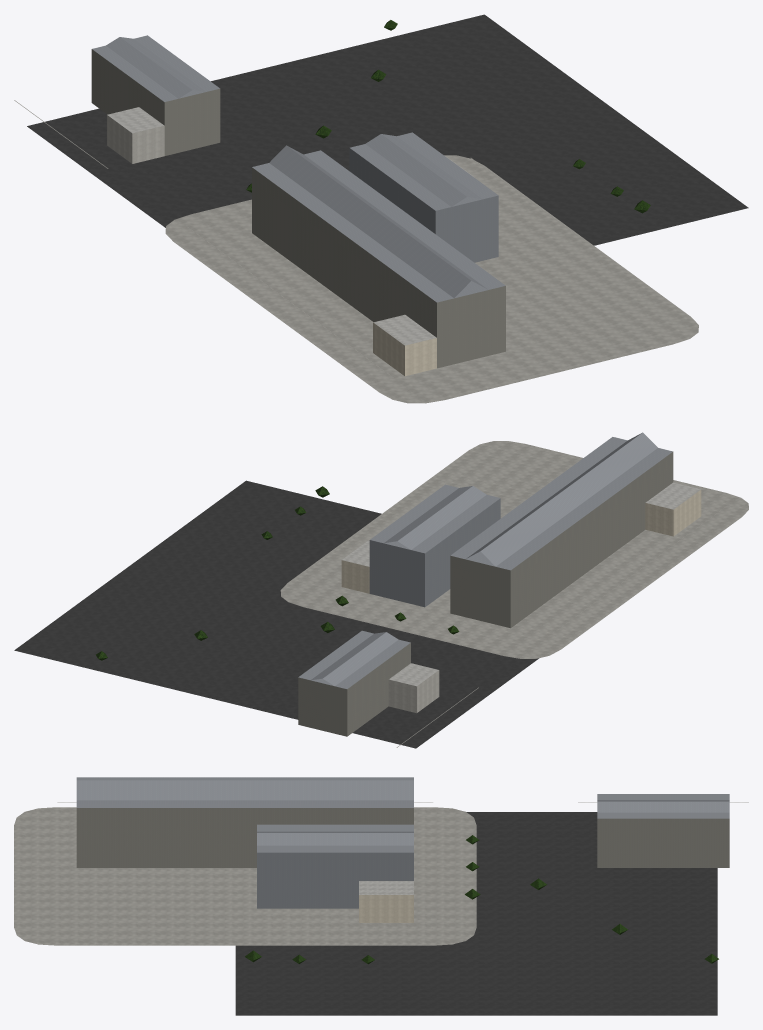
The model's file is cidade_S07_01_lod.gltf.
3 views of the same model, one above another, from view 1: azimuth 30°, elevation 25°; view 2: azimuth 150°, elevation 25°; view 3: azimuth 270°, elevation 25° (orthographic). The views are drawn at different scales.
Parts seen in each view (by area): view 1: S07_01_Chao_LOD2, S07_01_Edificios_LOD1, S07_01_Silhueta_LOD2, S07_01_Vegetacao_LOD2; view 2: S07_01_Chao_LOD2, S07_01_Edificios_LOD1, S07_01_Silhueta_LOD2, S07_01_Vegetacao_LOD2; view 3: S07_01_Chao_LOD2, S07_01_Edificios_LOD1, S07_01_Silhueta_LOD2, S07_01_Vegetacao_LOD2.
Boxes of the visible parts, <box> form: S07_01_Chao_LOD2: <box>27,14,748,403</box>; S07_01_Edificios_LOD1: <box>14,37,577,377</box>; S07_01_Silhueta_LOD2: <box>91,35,505,367</box>; S07_01_Vegetacao_LOD2: <box>246,20,650,213</box>; S07_01_Chao_LOD2: <box>14,441,748,748</box>; S07_01_Edificios_LOD1: <box>298,432,729,747</box>; S07_01_Silhueta_LOD2: <box>298,437,673,735</box>; S07_01_Vegetacao_LOD2: <box>96,486,459,660</box>; S07_01_Chao_LOD2: <box>14,807,717,1015</box>; S07_01_Edificios_LOD1: <box>57,780,748,928</box>; S07_01_Silhueta_LOD2: <box>76,777,729,908</box>; S07_01_Vegetacao_LOD2: <box>245,835,718,964</box>.
Size of the model in its own units: 102 by 16.72 by 152.
Materials: 9 (9 with a texture image).
